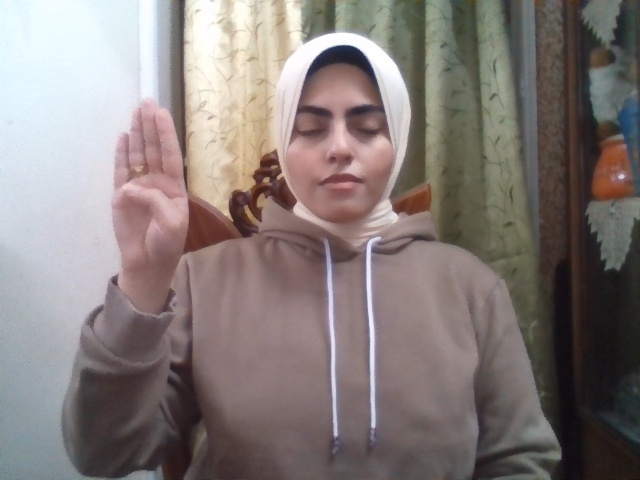B: (112, 96, 188, 280)
